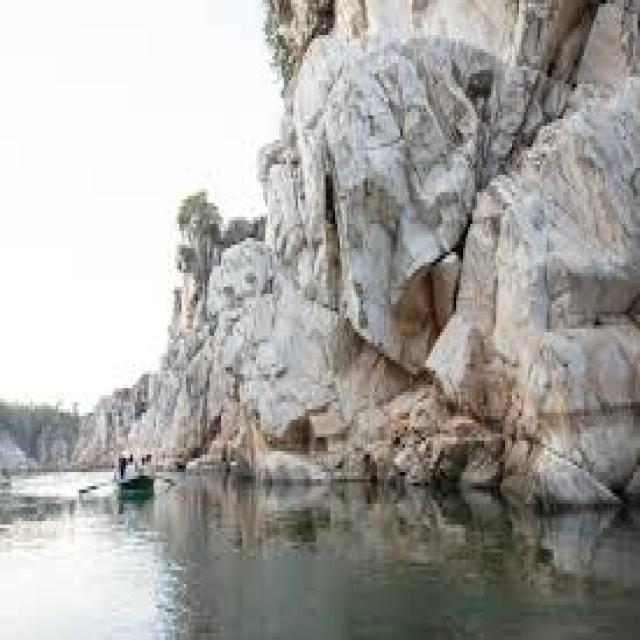Metamorphic: (116, 4, 638, 504)
